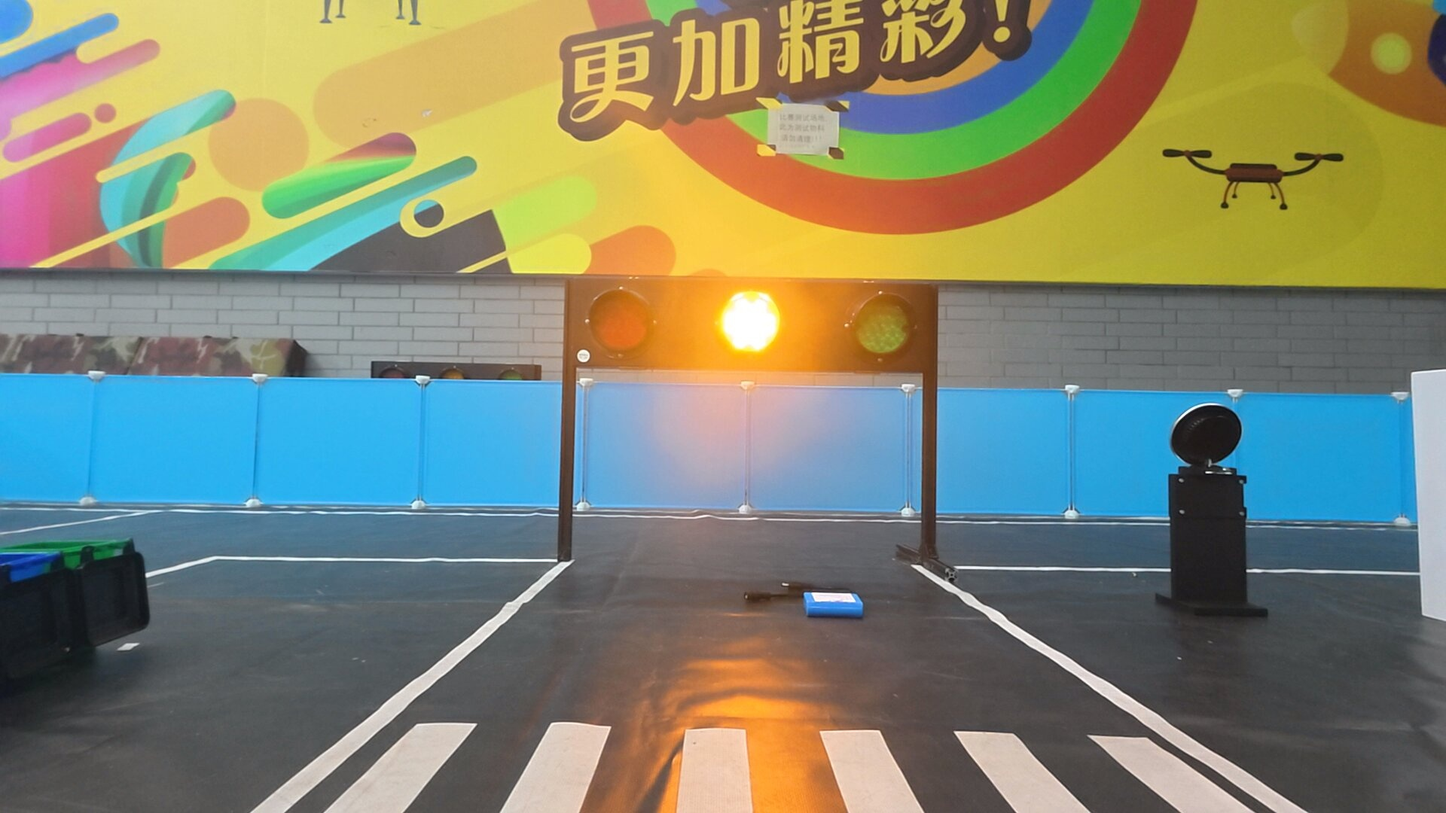stop: (715, 287, 785, 355)
